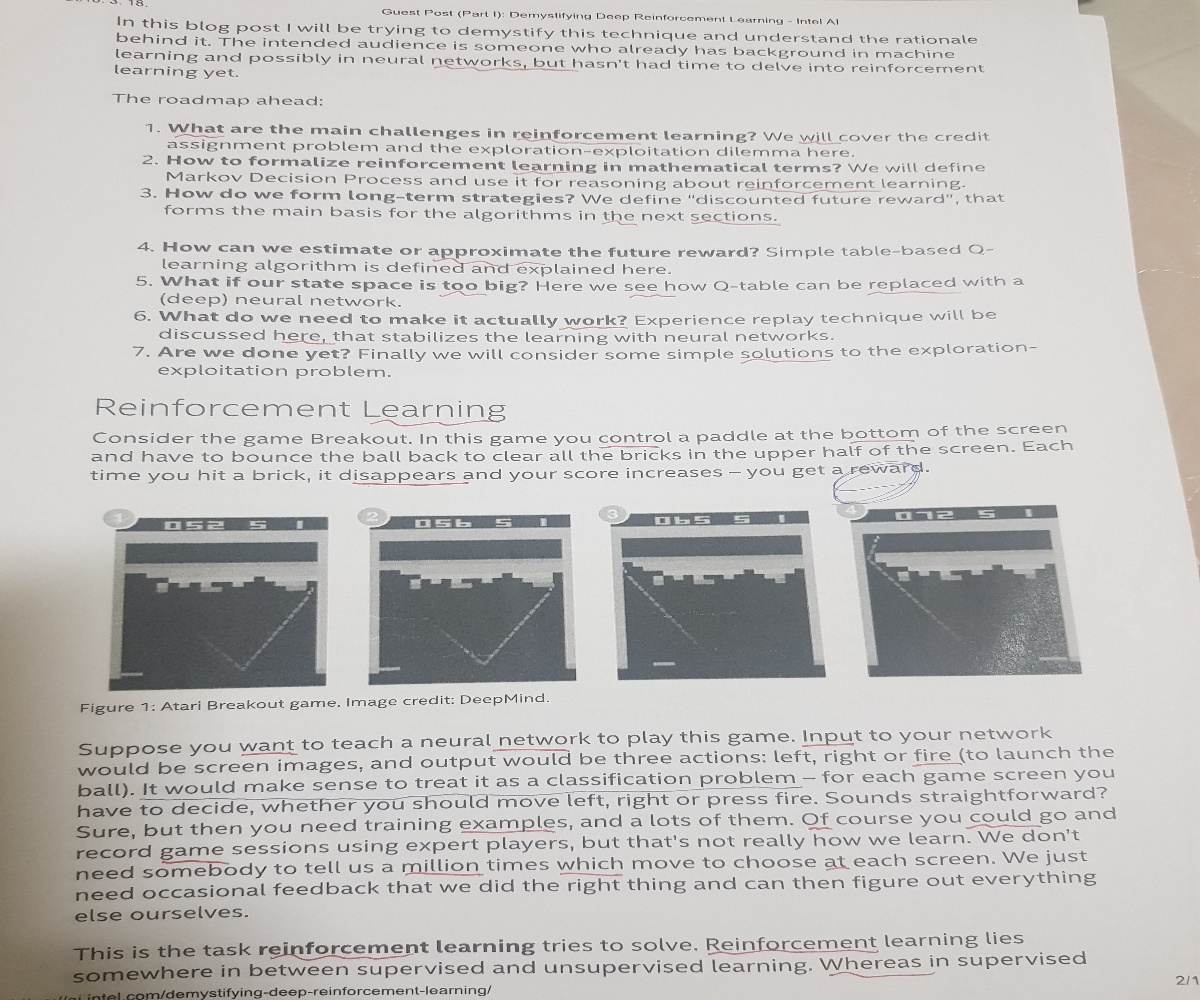underline: (825, 969, 942, 985), (430, 62, 578, 73), (347, 476, 471, 489), (266, 951, 420, 961), (515, 136, 642, 148), (363, 416, 495, 427), (745, 185, 883, 195), (704, 949, 883, 956), (429, 255, 549, 265), (736, 356, 834, 367), (689, 218, 783, 229), (512, 168, 602, 178), (160, 857, 232, 869), (402, 869, 488, 879), (557, 869, 624, 881), (459, 829, 558, 837), (492, 744, 571, 754), (964, 821, 1041, 830), (279, 337, 338, 348), (862, 289, 966, 295), (595, 441, 663, 450), (238, 748, 299, 758), (845, 437, 918, 445), (170, 131, 228, 141), (555, 325, 627, 332), (799, 740, 854, 749), (625, 290, 680, 298), (598, 218, 638, 228), (436, 289, 487, 296), (911, 761, 967, 767), (797, 138, 844, 145), (805, 824, 840, 831)
